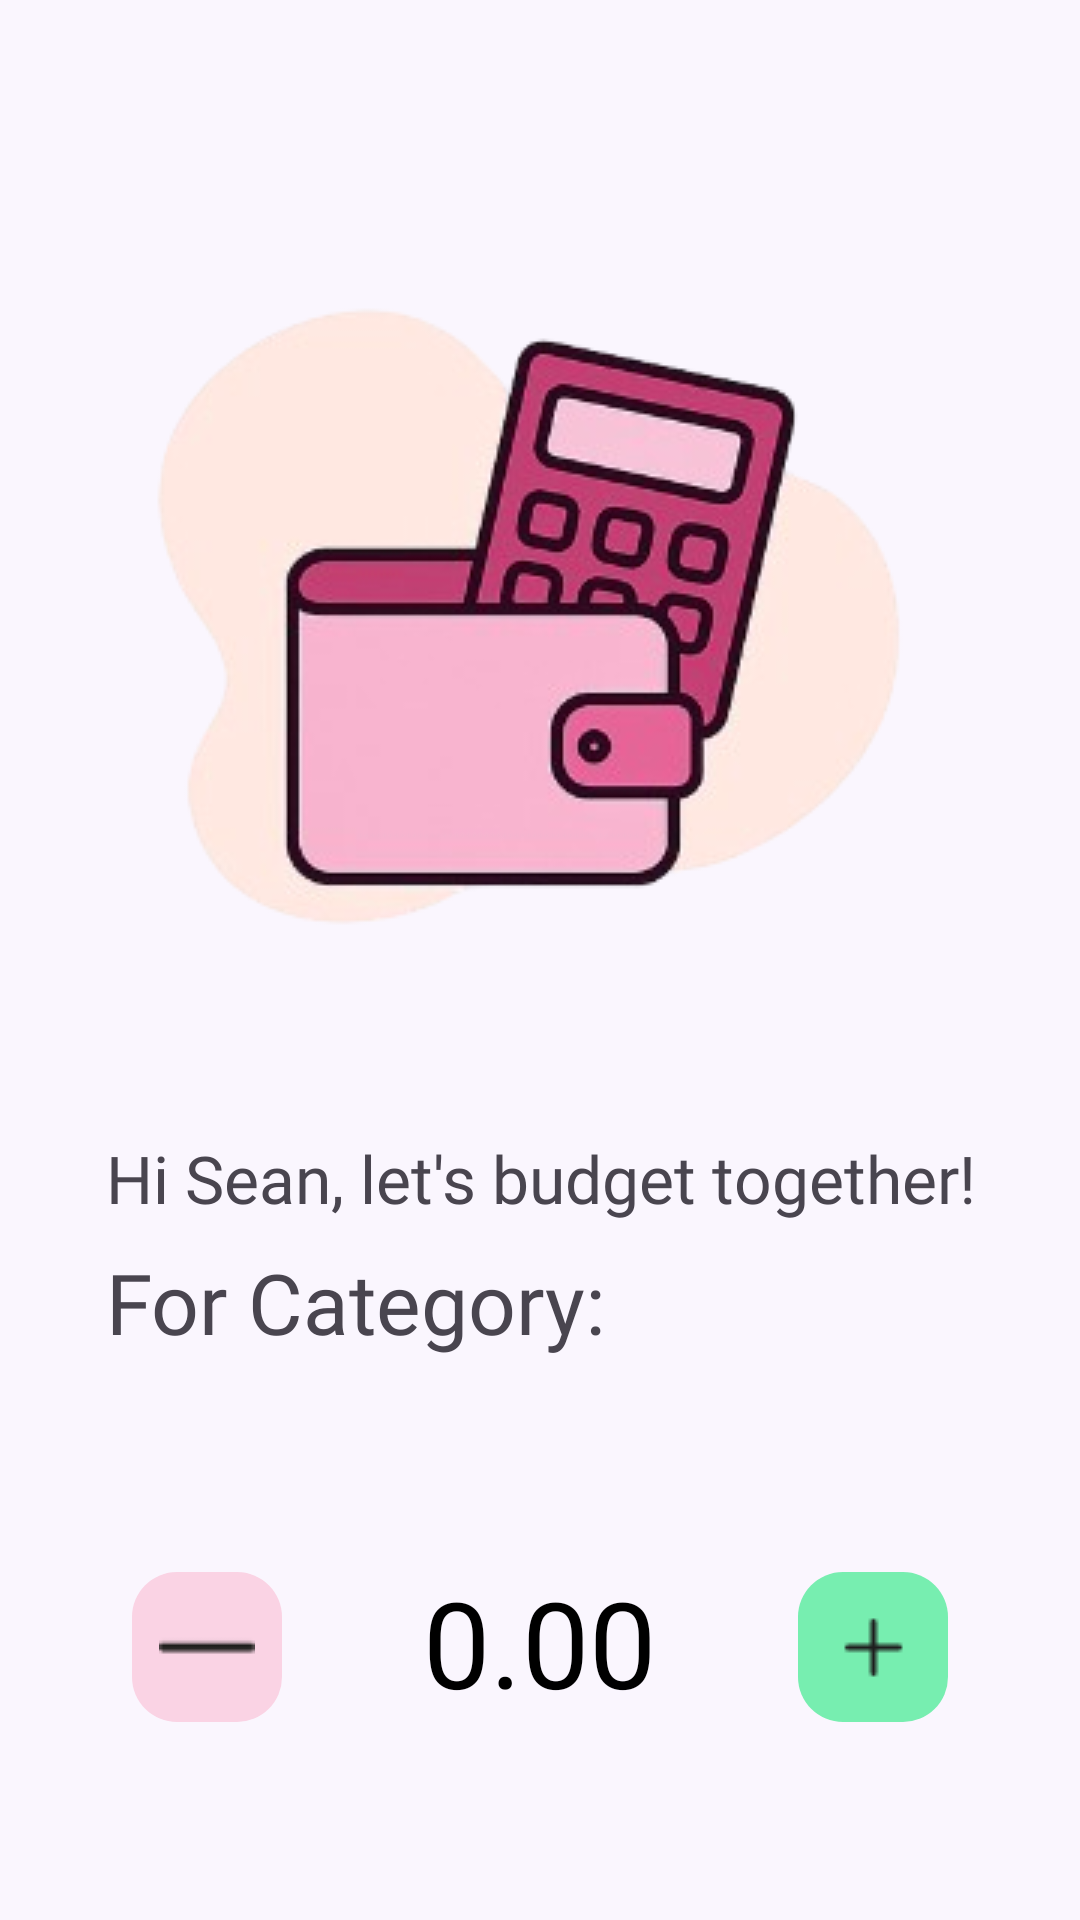

Named icons in this screenshot (1080 x 1920) and their bounding boxes, (x1, y1, x2, y2):
minus: (132, 1572, 282, 1722)
plus: (798, 1572, 948, 1722)
